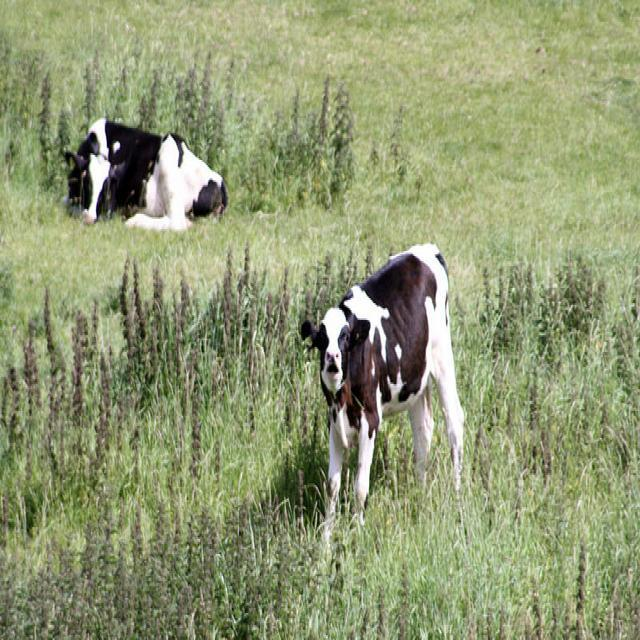cow: (299, 234, 465, 526), (57, 116, 229, 231)
